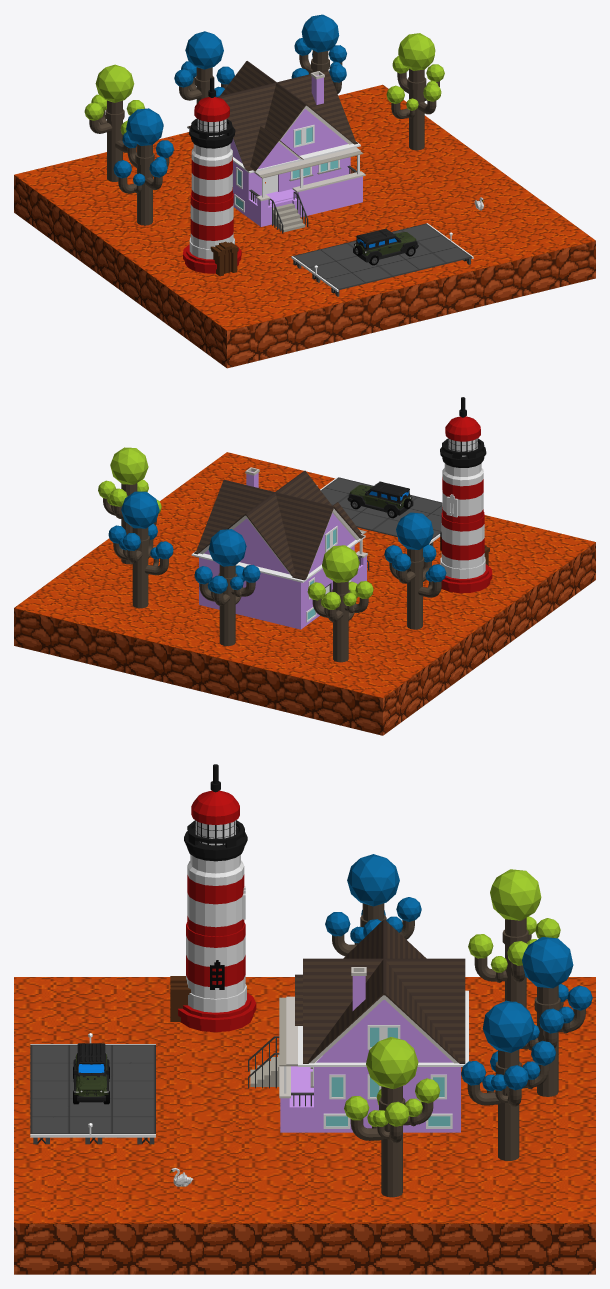
The picture shows the model from 3 angles, top to bottom: view 1: azimuth 30°, elevation 25°; view 2: azimuth 150°, elevation 25°; view 3: azimuth 270°, elevation 25°; orthographic projection. The views are drawn at different scales.
Visible parts, largest first — view 1: Cube.001, Cube.391, OBJRANDOM_LIGHTHOUSE, VEHICLES_JEEP; view 2: Cube.001, Cube.391, OBJRANDOM_LIGHTHOUSE, VEHICLES_JEEP; view 3: Cube.001, Cube.391, OBJRANDOM_LIGHTHOUSE, VEHICLES_JEEP.
Boxes of the visible parts, x1,y1,x2,y2 form: Cube.001: (14,14,595,368); Cube.391: (187,61,365,233); OBJRANDOM_LIGHTHOUSE: (183,77,241,276); VEHICLES_JEEP: (353,228,418,265); Cube.001: (14,447,595,735); Cube.391: (191,467,369,629); OBJRANDOM_LIGHTHOUSE: (440,397,492,593); VEHICLES_JEEP: (347,481,413,518); Cube.001: (14,854,595,1274); Cube.391: (248,919,468,1132); OBJRANDOM_LIGHTHOUSE: (170,764,256,1032); VEHICLES_JEEP: (73,1043,109,1104).
Bounding box in the file's own units: 4000 × 2391 × 4000.
38 materials, 4 textured.
